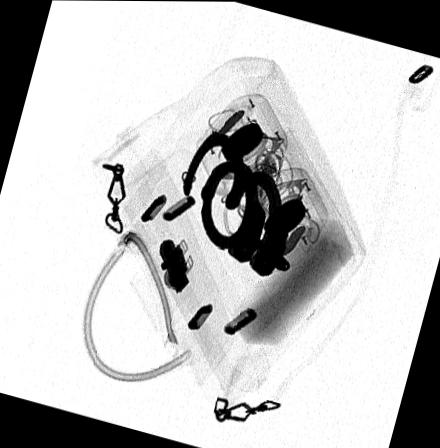HandCuffs: (181, 122, 306, 276)
